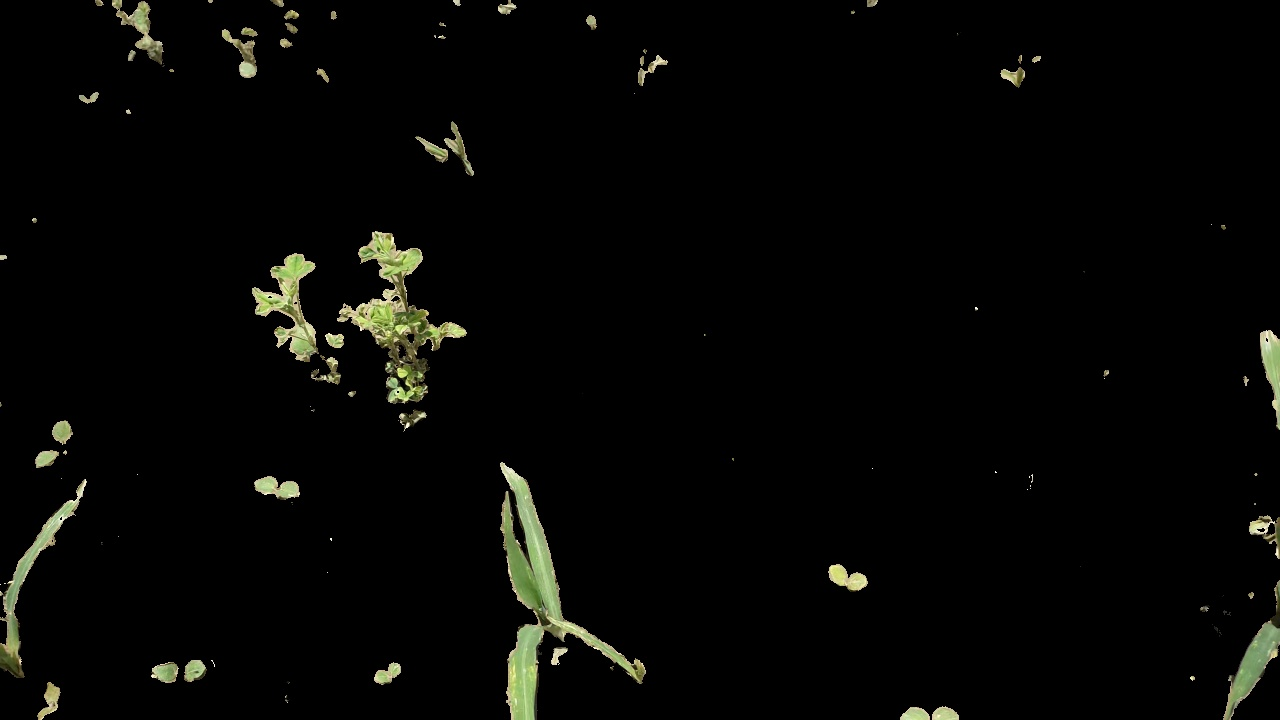crop: (490, 457, 647, 719), (1, 477, 101, 680), (1222, 607, 1278, 720), (1258, 328, 1280, 429)
weed: (347, 229, 469, 441), (247, 250, 342, 390), (416, 116, 483, 182), (106, 4, 177, 65), (993, 41, 1045, 96), (216, 28, 263, 79), (32, 416, 73, 471), (1245, 506, 1280, 565), (252, 471, 303, 511), (146, 659, 211, 686), (825, 563, 871, 596), (895, 701, 968, 720), (366, 661, 408, 686), (75, 90, 104, 107)
